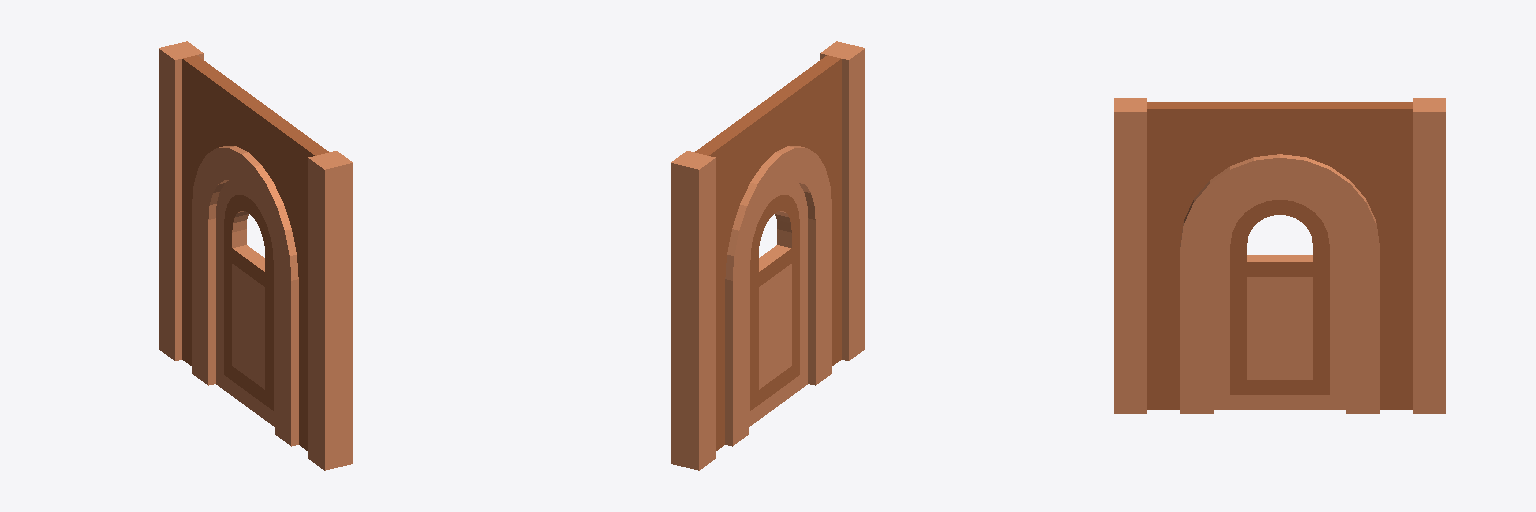
The model's file is wallWoodDoor.obj.
3 renders of one model, left to right at view 1: azimuth 30°, elevation 25°; view 2: azimuth 150°, elevation 25°; view 3: azimuth 270°, elevation 25°, orthographic.
Parts seen in each view (by area): view 1: wallWoodDoor, door; view 2: wallWoodDoor, door; view 3: wallWoodDoor, door.
Boxes of the visible parts, <box> form: wallWoodDoor: <box>159,41,352,470</box>; door: <box>216,180,274,426</box>; wallWoodDoor: <box>671,41,864,470</box>; door: <box>749,180,807,426</box>; wallWoodDoor: <box>1114,98,1445,413</box>; door: <box>1214,188,1345,409</box>.
Bounding box in the file's own units: 0.1 × 1 × 1.